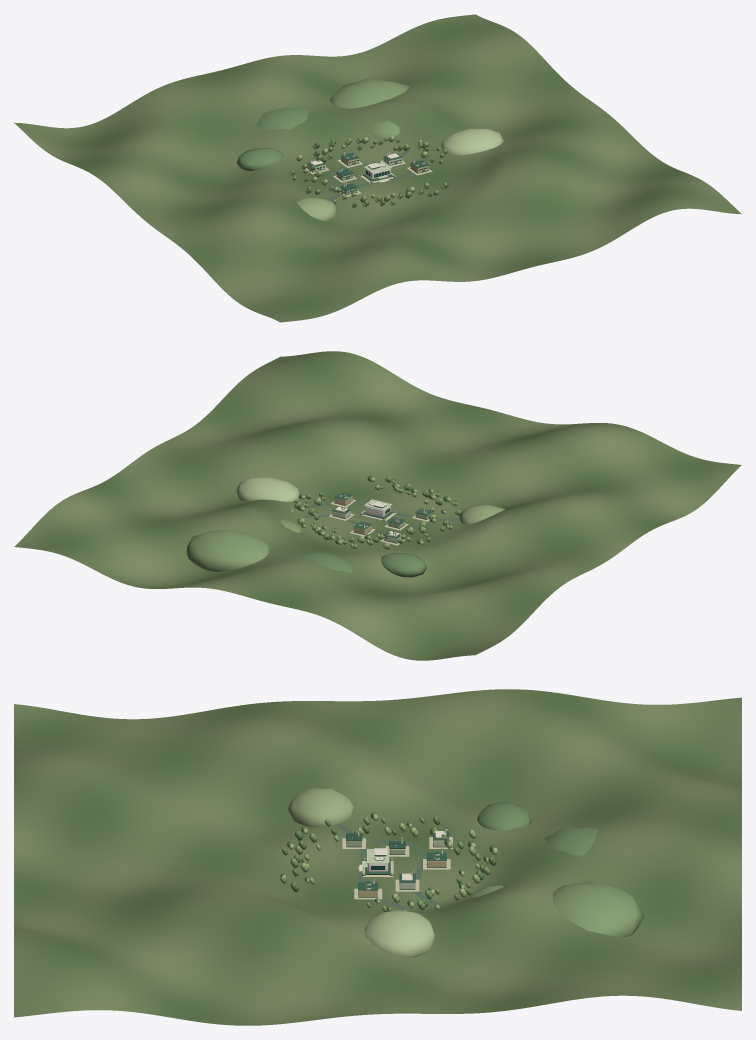
The model's file is estate.glb.
The picture shows the model from 3 angles, top to bottom: view 1: azimuth 30°, elevation 25°; view 2: azimuth 150°, elevation 25°; view 3: azimuth 270°, elevation 25°; orthographic projection. The views are drawn at different scales.
Visible parts, largest first — view 1: Painted meadow, Hills 1, Hills 0, Hills 3, Forest roof, Hills 2, Leaf 2, Leaf 1, Leaf 0, Leaf 3; view 2: Painted meadow, Hills 1, Hills 0, Hills 3, Forest roof, Leaf 2, Leaf 0, Leaf 3, Leaf 1, Hills 2; view 3: Painted meadow, Hills 1, Hills 3, Hills 0, Hills 2, Forest roof, Pale stone paths, Leaf 1, Leaf 2, Leaf 0, Green slate road, Leaf 3 (+1 smaller).
Boxes of the visible parts, x1,y1,x2,y2 form: Painted meadow: (14,14,741,322); Hills 1: (329,79,409,138); Hills 0: (236,107,309,171); Hills 3: (441,128,503,155); Forest roof: (307,152,428,195); Hills 2: (296,197,338,220); Leaf 2: (293,136,444,207); Leaf 1: (290,137,447,205); Leaf 0: (292,138,448,206); Leaf 3: (289,135,445,206); Painted meadow: (14,351,741,660); Hills 1: (186,519,302,571); Hills 0: (299,552,426,577); Hills 3: (235,477,299,501); Forest roof: (332,492,432,543); Leaf 2: (289,476,460,548); Leaf 0: (296,476,460,544); Leaf 3: (291,477,454,548); Leaf 1: (291,474,457,549); Hills 2: (458,505,504,523); Painted meadow: (14,689,741,1025); Hills 1: (469,881,644,937); Hills 3: (364,909,434,957); Hills 0: (477,802,598,855); Hills 2: (288,788,353,827); Forest roof: (346,827,448,897); Pale stone paths: (342,837,452,899); Leaf 1: (282,816,494,912); Leaf 2: (280,814,488,910); Leaf 0: (280,812,496,911); Green slate road: (336,824,438,908); Leaf 3: (283,814,497,908).
Bounding box in the file's own units: 520 × 46.11 × 520.
